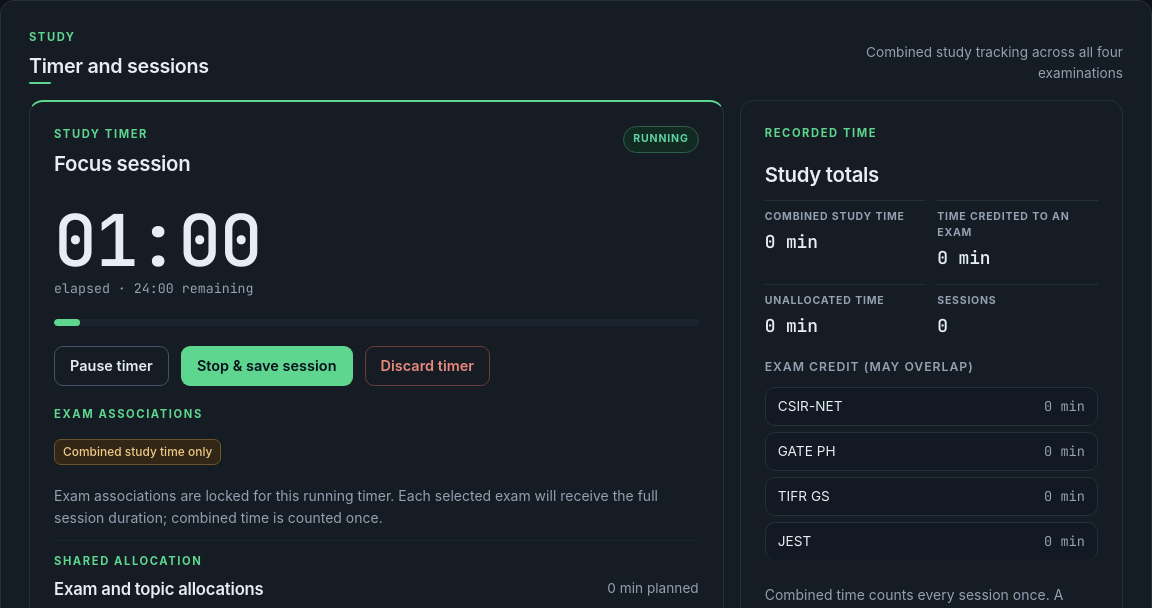
Test case: V2 study timer and sessions › pauses and resumes a running timer
Expected: the heading "Timer and sessions" is shown, left=29, top=54, right=209, bottom=84
Expected: the element showing "01:00 elapsed · 24:00 remaining" is shown, left=54, top=193, right=261, bottom=297
Step 1. Click the button "Pause timer" → (111, 366), box left=54, top=346, right=169, bottom=386
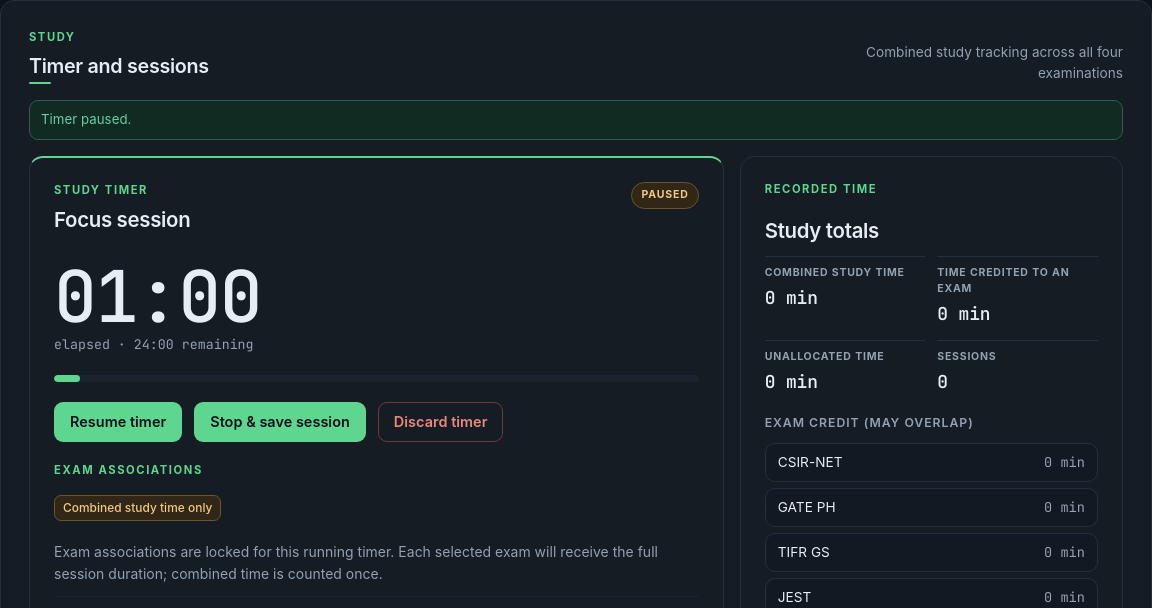
Expected: the text "Paused" is shown, left=631, top=182, right=699, bottom=209
Step 2. Click the button "Resume timer" → (118, 422), box left=54, top=402, right=182, bottom=442
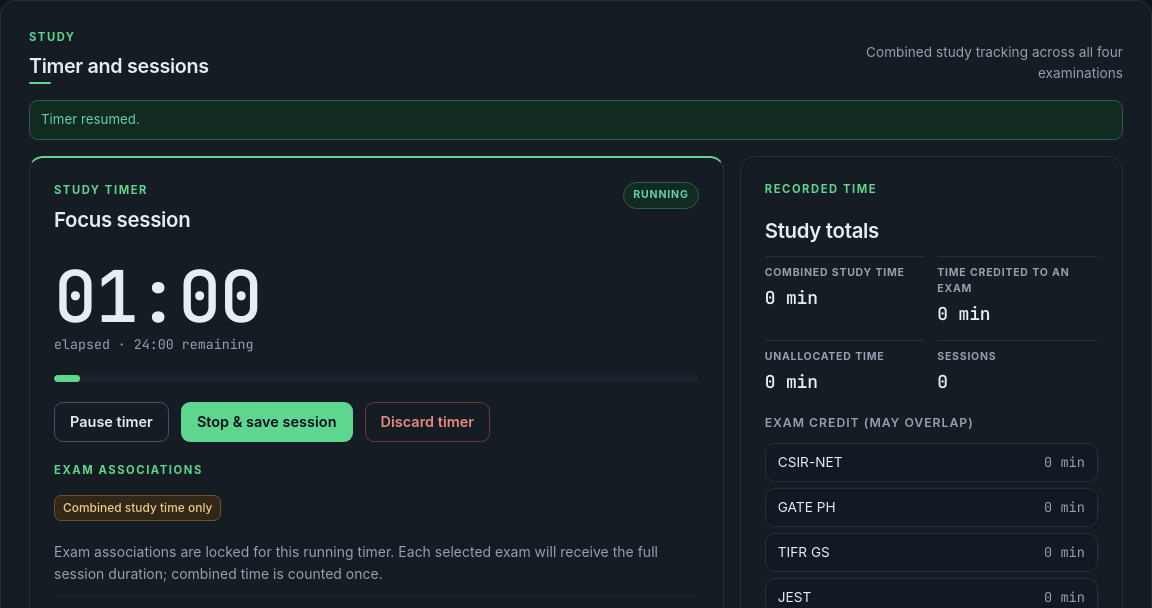
Expected: the text "Running" is shown, left=623, top=182, right=699, bottom=209
